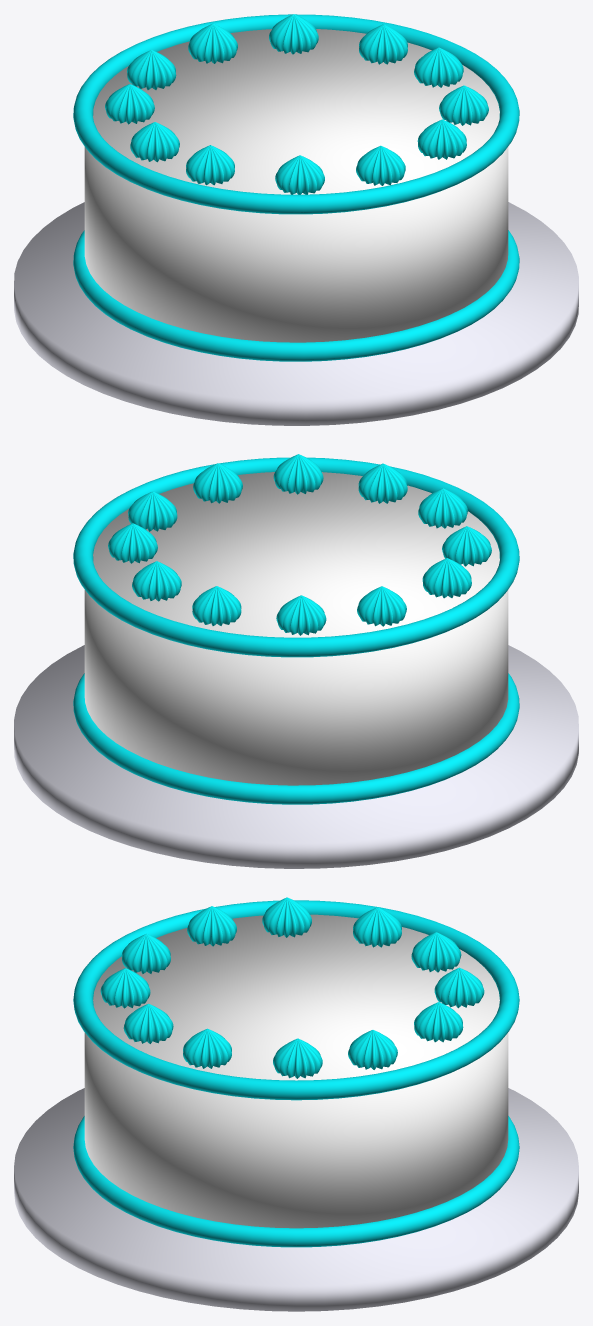
Rendered from birthday_stick3.glb.
The picture shows the model from 3 angles, top to bottom: view 1: azimuth 30°, elevation 25°; view 2: azimuth 150°, elevation 25°; view 3: azimuth 270°, elevation 25°; orthographic projection.
Visible parts, largest first — view 1: CakeBase, IcingStand, IcingRing, IcingRing.001, design10, design1, design2, design6, design4, design7, design3, design11 (+4 smaller); view 2: CakeBase, IcingStand, IcingRing, IcingRing.001, design2, design5, design3, design1, design9, design10, design8, design12 (+4 smaller); view 3: CakeBase, IcingStand, IcingRing, IcingRing.001, design2, design11, design10, design6, design7, design1, design3, design8 (+4 smaller).
Part boxes in pixels (x1,y1,x2,y2): CakeBase: (84, 29, 508, 342); IcingStand: (14, 202, 578, 425); IcingRing: (73, 14, 519, 214); IcingRing.001: (73, 230, 519, 361); design10: (105, 84, 154, 124); design1: (188, 23, 237, 63); design2: (356, 145, 405, 185); design6: (127, 50, 176, 89); design4: (414, 47, 463, 87); design7: (186, 145, 234, 185); design3: (130, 122, 179, 162); design11: (269, 14, 318, 54); CakeBase: (84, 472, 508, 785); IcingStand: (14, 645, 578, 868); IcingRing: (73, 457, 519, 657); IcingRing.001: (73, 673, 519, 804); design2: (358, 463, 407, 503); design5: (273, 454, 323, 494); design3: (422, 558, 471, 598); design1: (192, 586, 241, 625); design9: (193, 463, 242, 503); design10: (357, 586, 406, 626); design8: (108, 523, 157, 563); design12: (418, 488, 467, 528); CakeBase: (84, 914, 508, 1228); IcingStand: (14, 1088, 578, 1311); IcingRing: (73, 900, 519, 1100); IcingRing.001: (73, 1116, 519, 1247); design2: (100, 968, 150, 1008); design11: (414, 1002, 463, 1042); design10: (353, 907, 401, 947); design6: (411, 932, 461, 972); design7: (187, 906, 236, 946); design1: (434, 967, 484, 1008); design3: (262, 897, 311, 937); design8: (348, 1030, 397, 1069).
Size of the model in its own units: 4 by 1.75 by 4.
